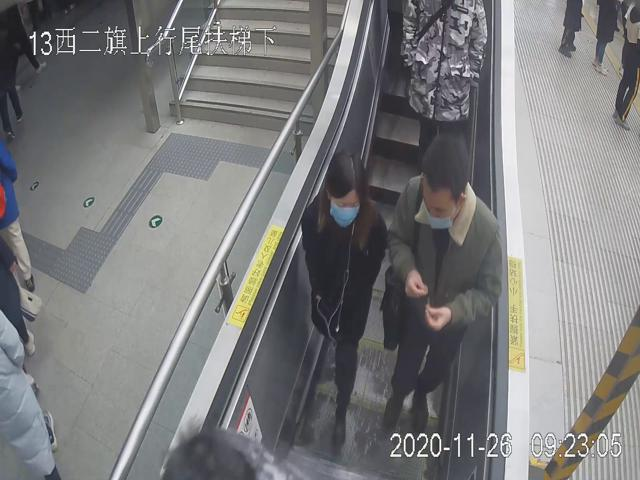person: (387, 130, 502, 441), (296, 148, 389, 449)
